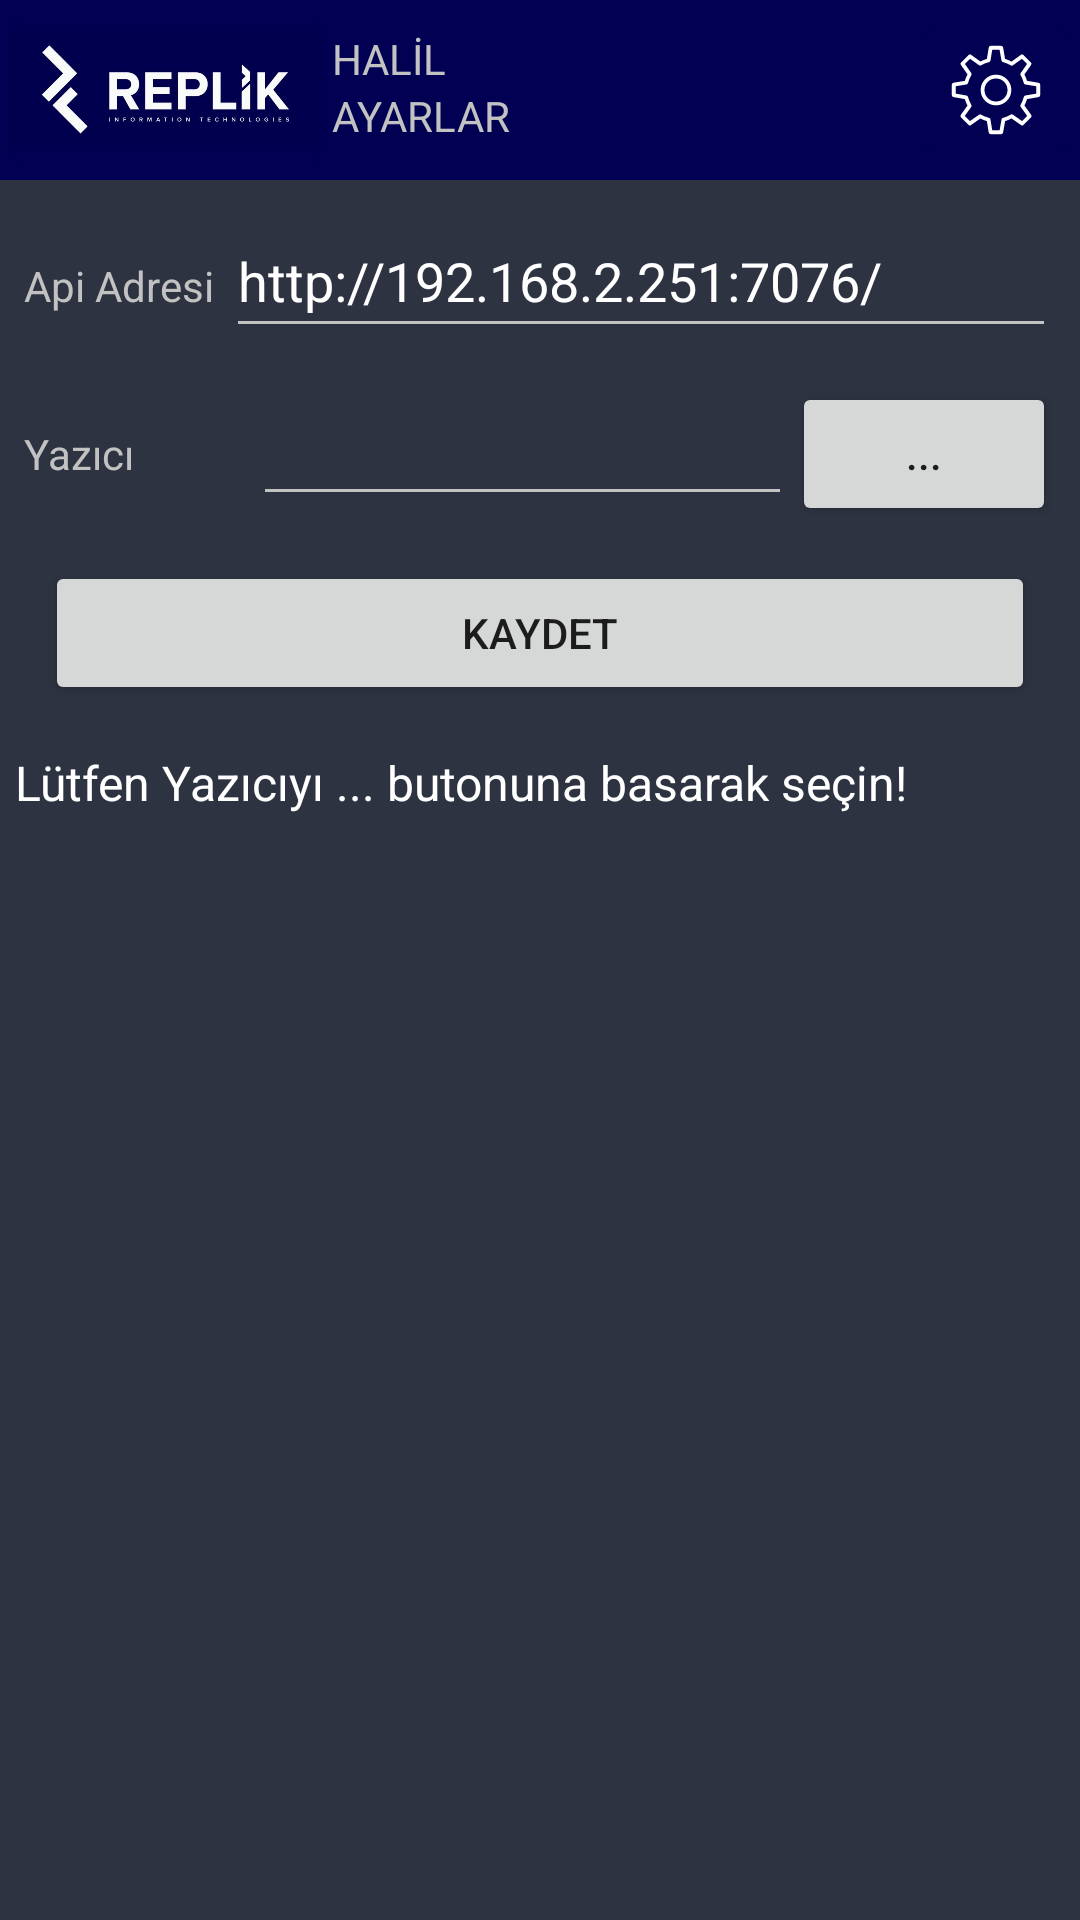

Named icons in this screenshot (1080px x 1920px) and their bounding boxes, (left=x1, top=y1, right=x2, bottom=y2):
settings: (left=951, top=45, right=1041, bottom=135)
